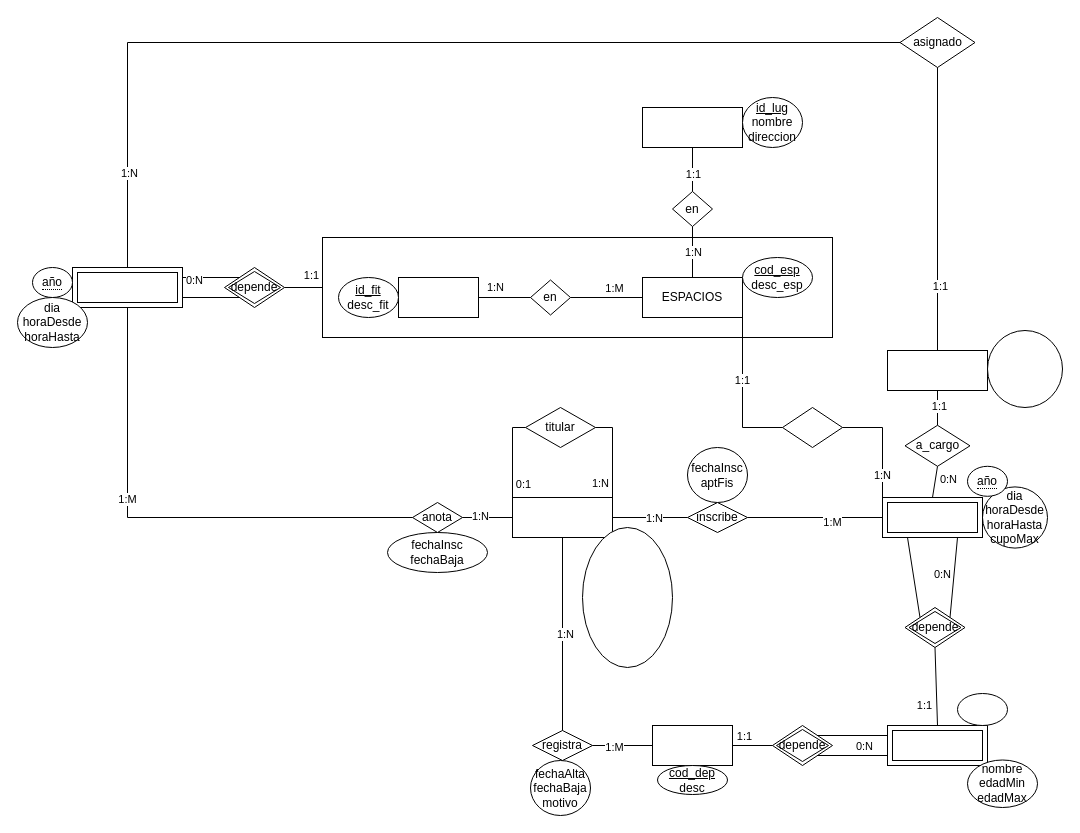
The diagram is 1080 pixels wide and 833 high, and some of its shapes have lost their labels. Here are the shapes that lost their labels. From the top down, the centre of each, then its label:
At point 692,127: "LUGARES".
At point 127,287: "HORARIOS_ACT".
At point 438,297: "FITNESS".
At point 937,370: "PROFESORES".
At point 1024,369: "cuit nombre apellido fechaNac sexo".
At point 812,427: "tiene".
At point 562,517: "SOCIOS".
At point 932,517: "HORARIOS_DEP".
At point 627,597: "nro_socio cuil nombre apellido fechaNac sexo fechaIng fechaBaja".
At point 982,709: "nro_cat".
At point 692,745: "DEPORTES".
At point 937,745: "CATEGORIA".
